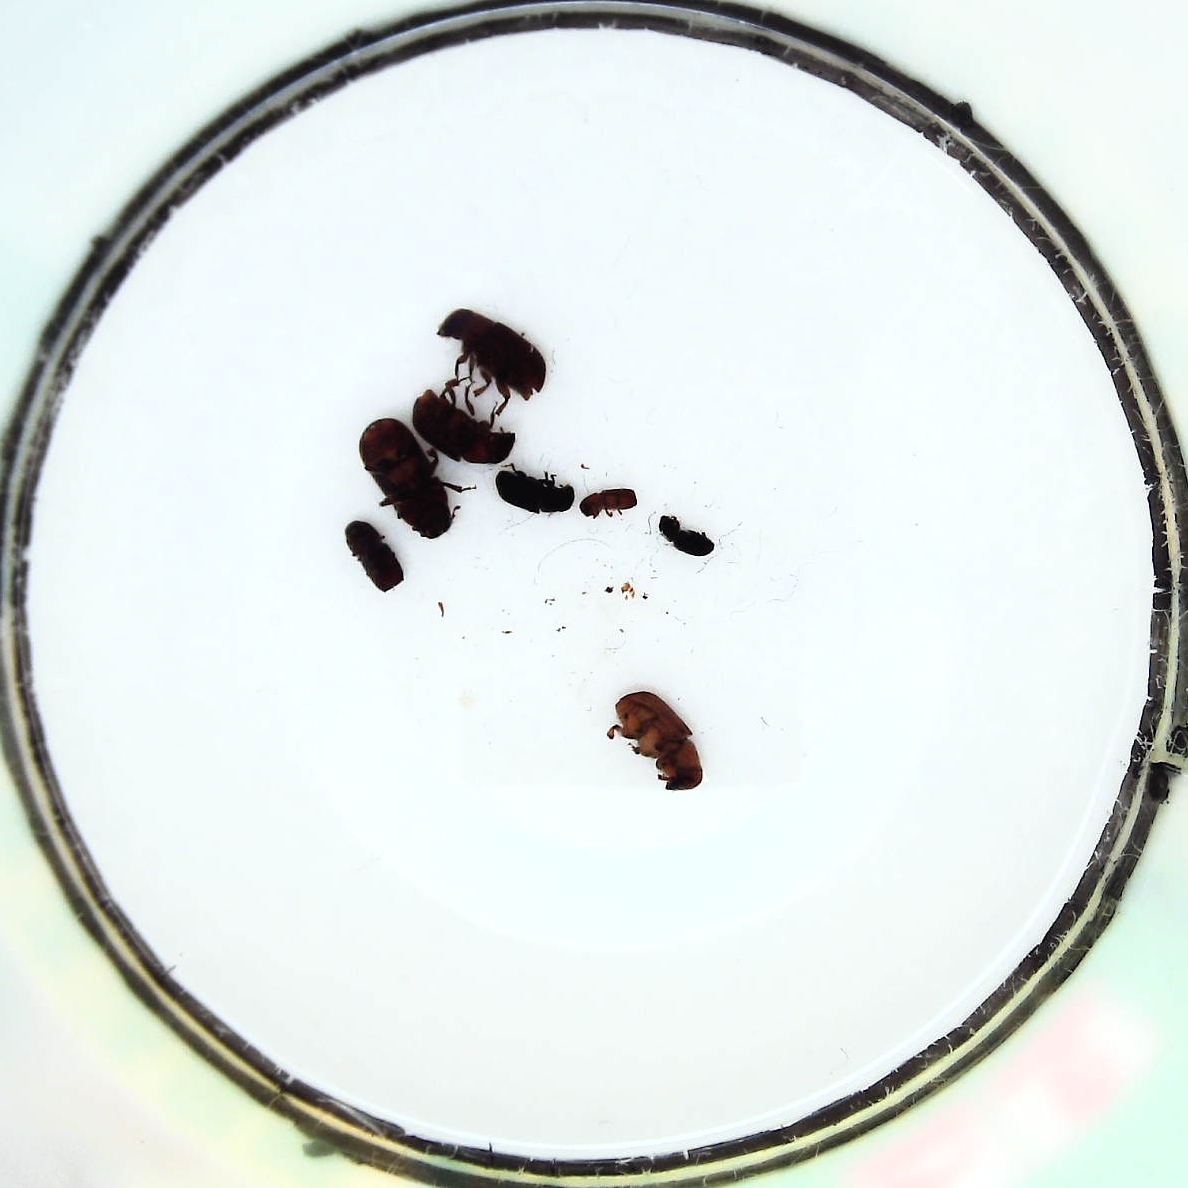Leconte: (356, 417, 459, 533), (436, 305, 549, 405), (608, 692, 711, 789), (413, 381, 520, 463)
Linnaeus: (337, 519, 401, 594)
acuminatus: (579, 482, 641, 520)
armandi: (494, 465, 577, 513)
coleoptera: (658, 512, 718, 558)
